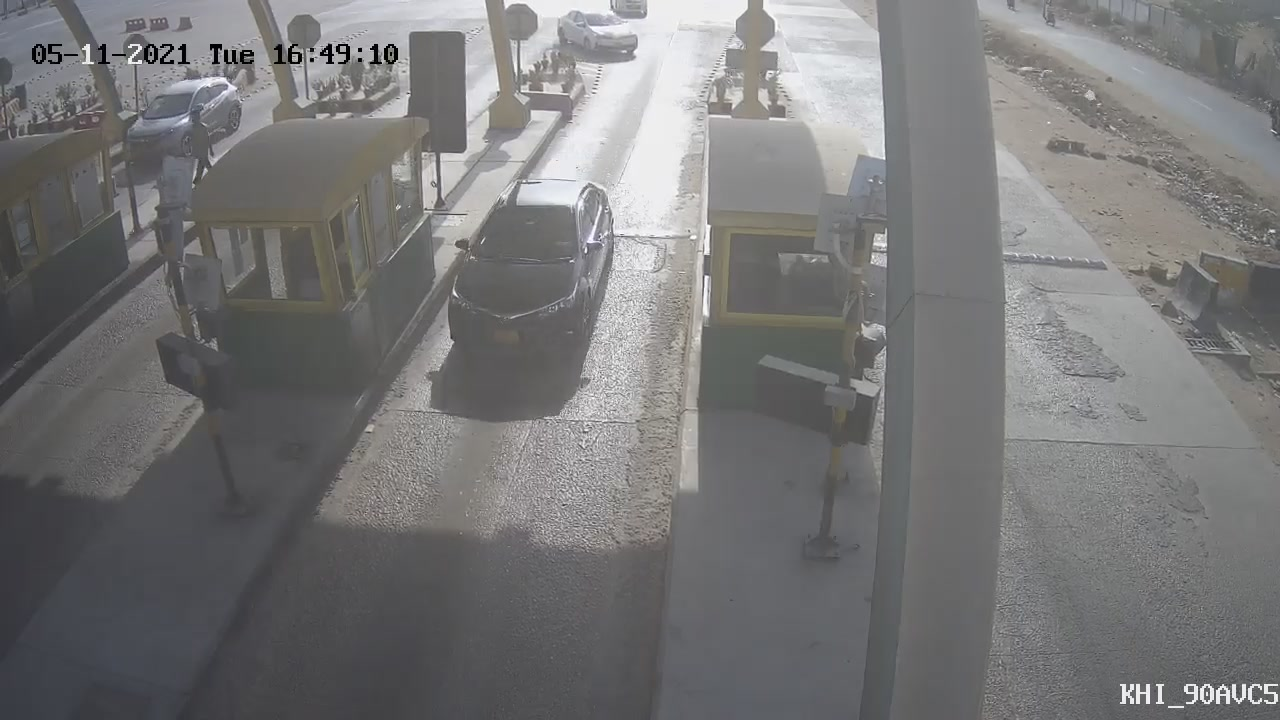F1: (427, 160, 633, 381)
